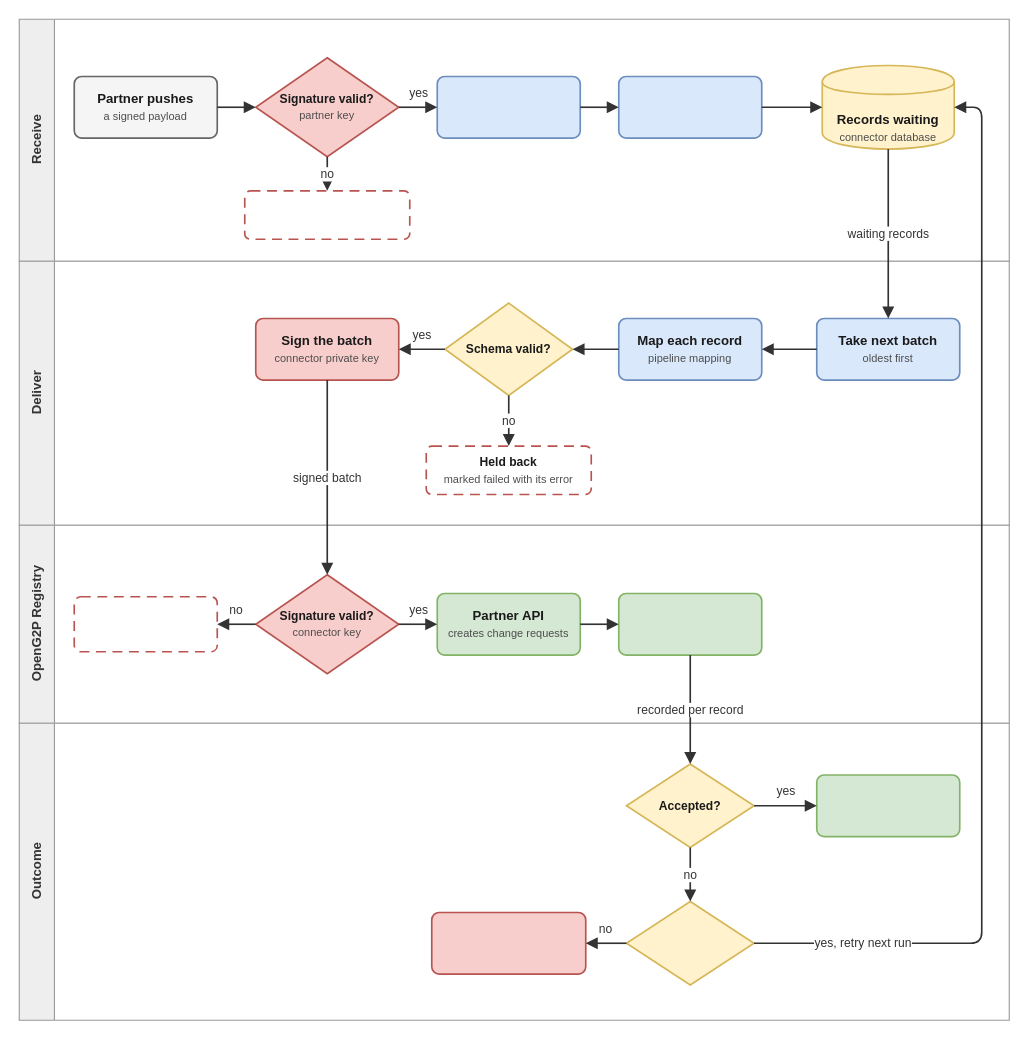
Some shapes in this 1029 by 1040 pixel diagram are drawn without their labels. The shapes that lost their labels are listed below. From the top down, each one's centre as x and y in pixels, then its label:
the point at 508,106: Store payload exactly as received
the point at 689,106: Split into records one per person or entry
the point at 326,215: Rejected at the edge never enters processing
the point at 145,623: Request refused batch stays waiting
the point at 689,623: Response correlation ID, errors
the point at 887,805: Delivered has its change request
the point at 508,942: Dead letter queue operator review and replay
the point at 689,942: Attempts left?
